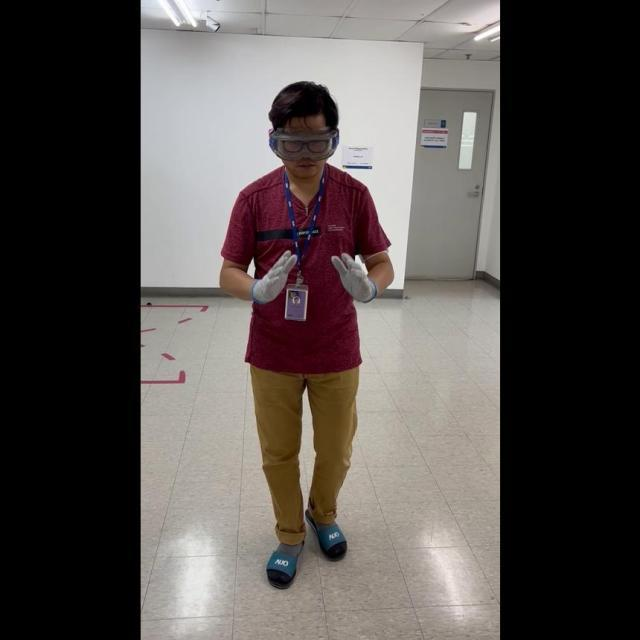gloved_hand: (249, 244, 298, 309), (330, 247, 376, 304)
